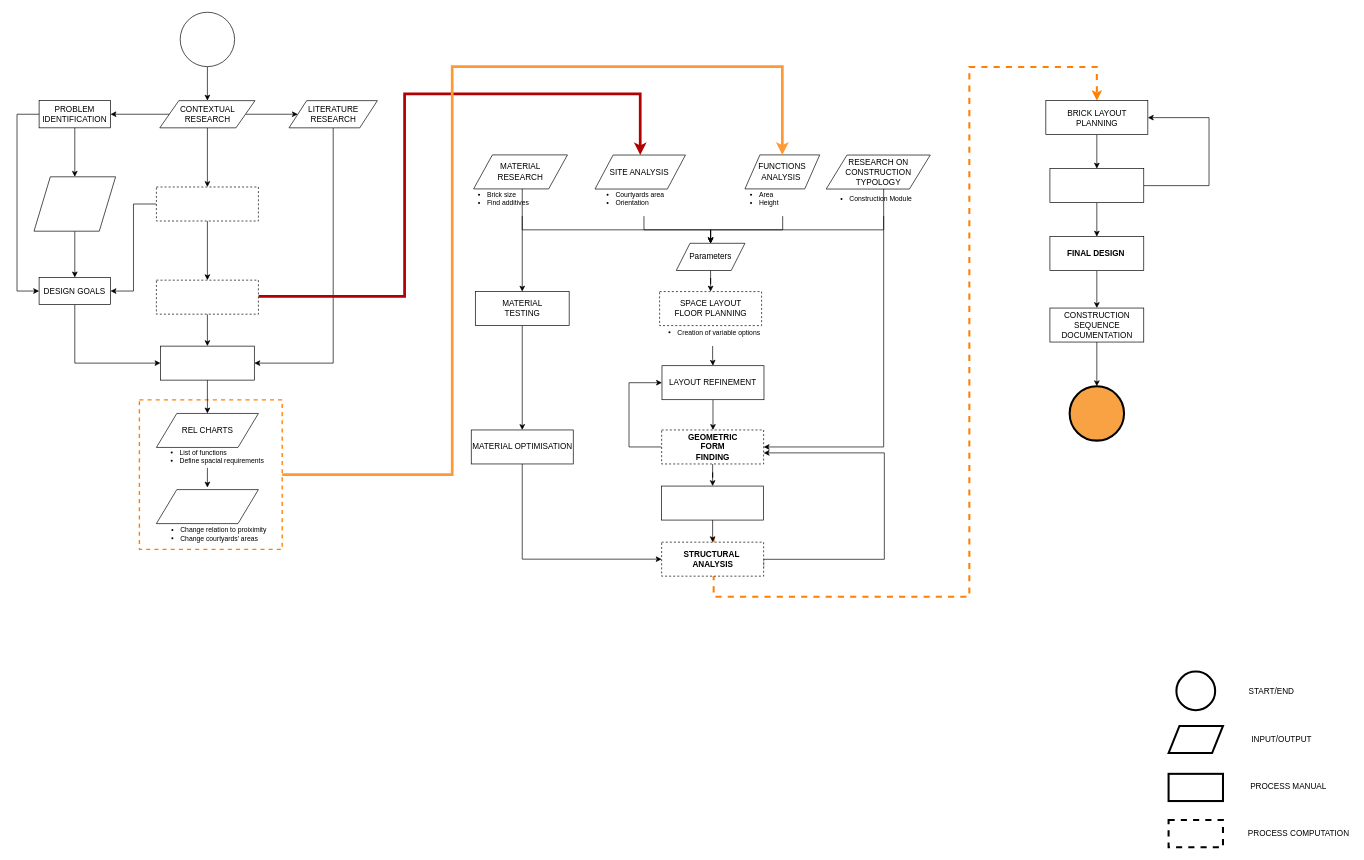
This 1364x860 diagram has some shape labels left out. Each missing label, with the centre of its shape:
BUBBLE DIAGRAM: point (207, 506)
END: point (1096, 413)
OPENINGS: point (712, 502)
PROGRAMME OF REQUIREMENTS: point (207, 362)
PROTOTYPING: point (1096, 185)
SITE LOCATION: point (207, 296)
START: point (207, 39)
URBAN ANALYSIS: point (207, 203)
VISION OF SKILL DEVELOPMENT CENTER: point (74, 203)
